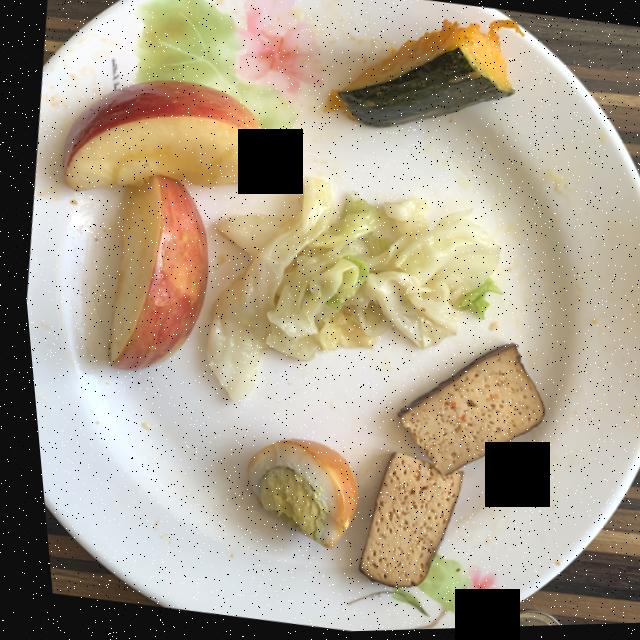apple -sliced-: (60, 81, 268, 371)
cabbage: (199, 180, 495, 404)
coin: (490, 613, 547, 630)
firm tofu: (348, 346, 536, 590)
pumpkin: (324, 22, 520, 130)
soy egg: (238, 440, 348, 550)
